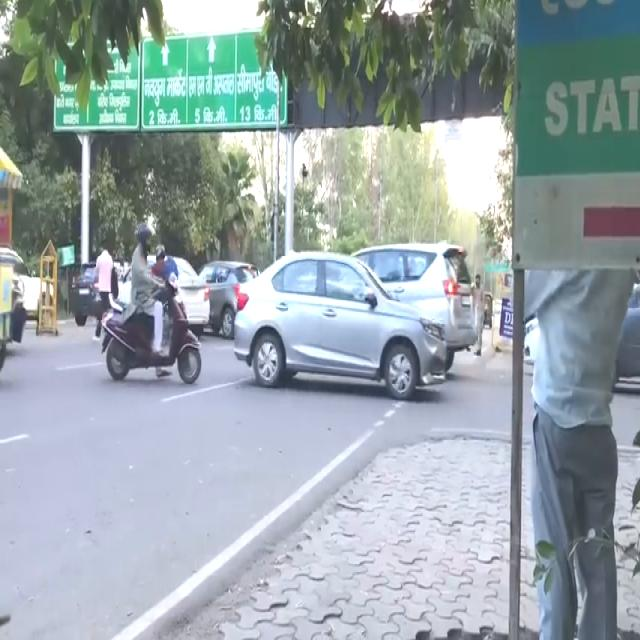MOTORCYCLE: (102, 266, 204, 389)
SED: (232, 250, 447, 398)
